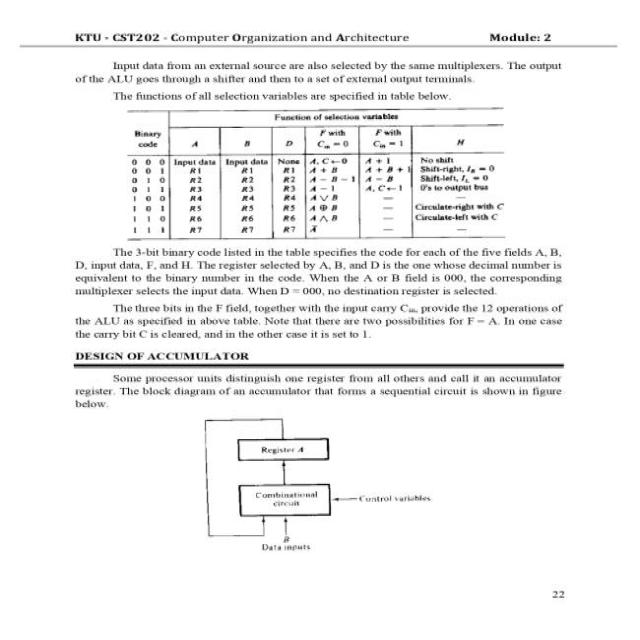Figure Detection - v3 Dataset Version2: (189, 406, 446, 564)
